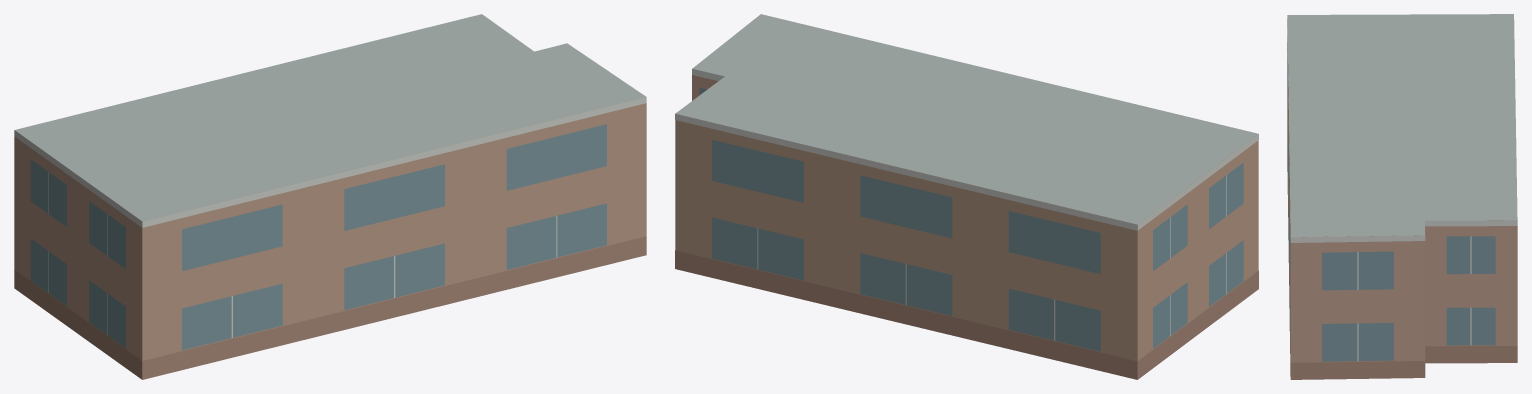
The model's file is survey-upis-32920558.glb.
3 views of the same model, side by side, from view 1: azimuth 30°, elevation 25°; view 2: azimuth 150°, elevation 25°; view 3: azimuth 270°, elevation 25° (orthographic). The views are drawn at different scales.
Visible parts, largest first — view 1: survey-upis-32920558.tmp; view 2: survey-upis-32920558.tmp; view 3: survey-upis-32920558.tmp.
Boxes of the visible parts, x1,y1,x2,y2 form: survey-upis-32920558.tmp: (14,14,646,379); survey-upis-32920558.tmp: (675,14,1258,379); survey-upis-32920558.tmp: (1287,14,1517,379).
Bounding box in the file's own units: 20.49 × 6.1 × 8.93.
